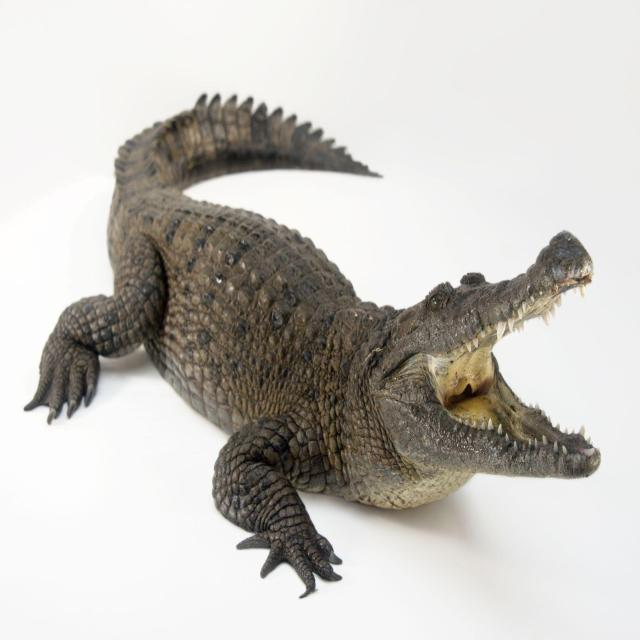crocodile: (11, 80, 612, 621)
